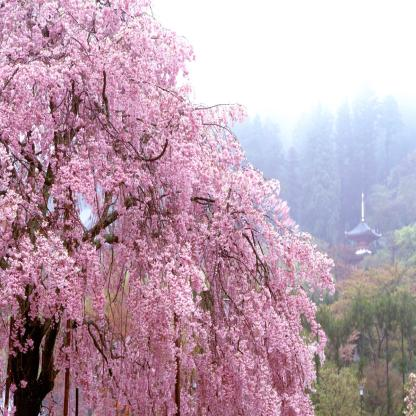Someiyoshino: (2, 4, 327, 412)
